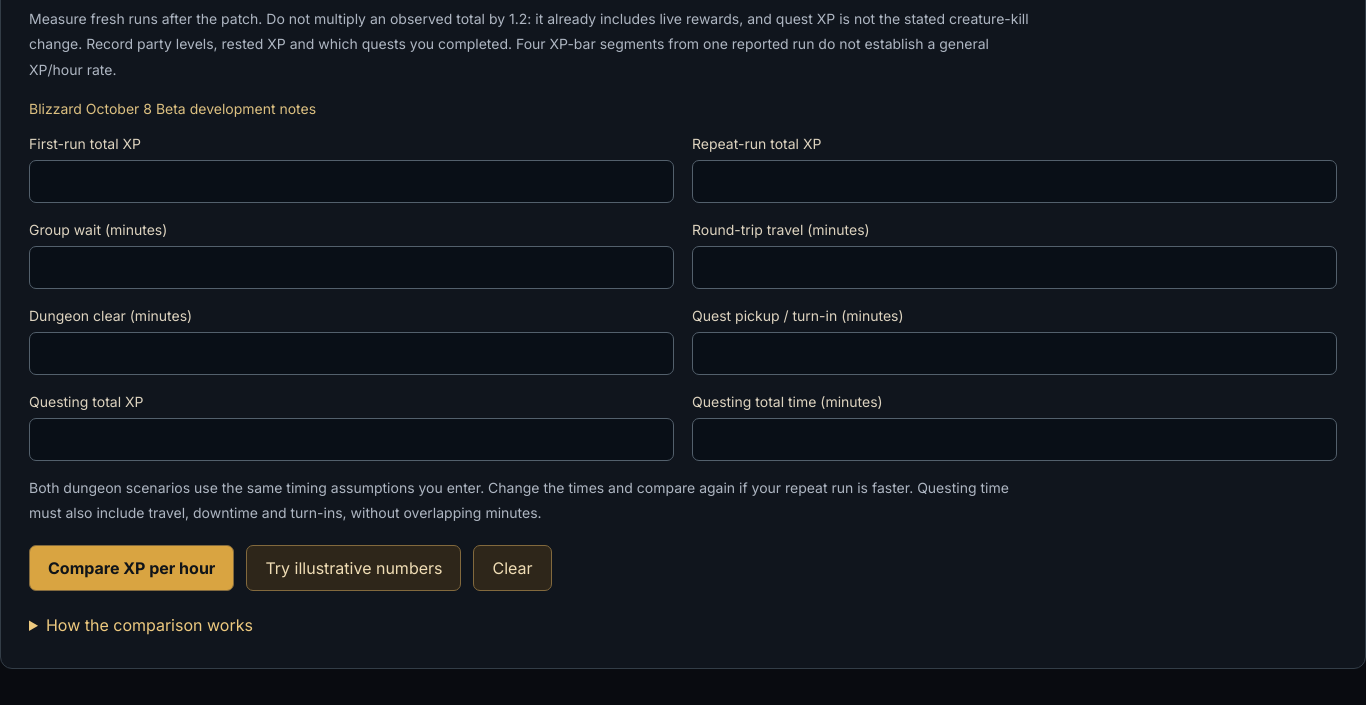
Test: explains the kill-XP patch without multiplying already measured total rewards
The width and height of the screenshot is (1366, 705).
(page scrolled)
Expected: the link "Blizzard October 8 Beta development notes" is shown, [29,100,316,117]
Click the button "Try illustrative numbers" at (354, 568), box [246,545,462,591]
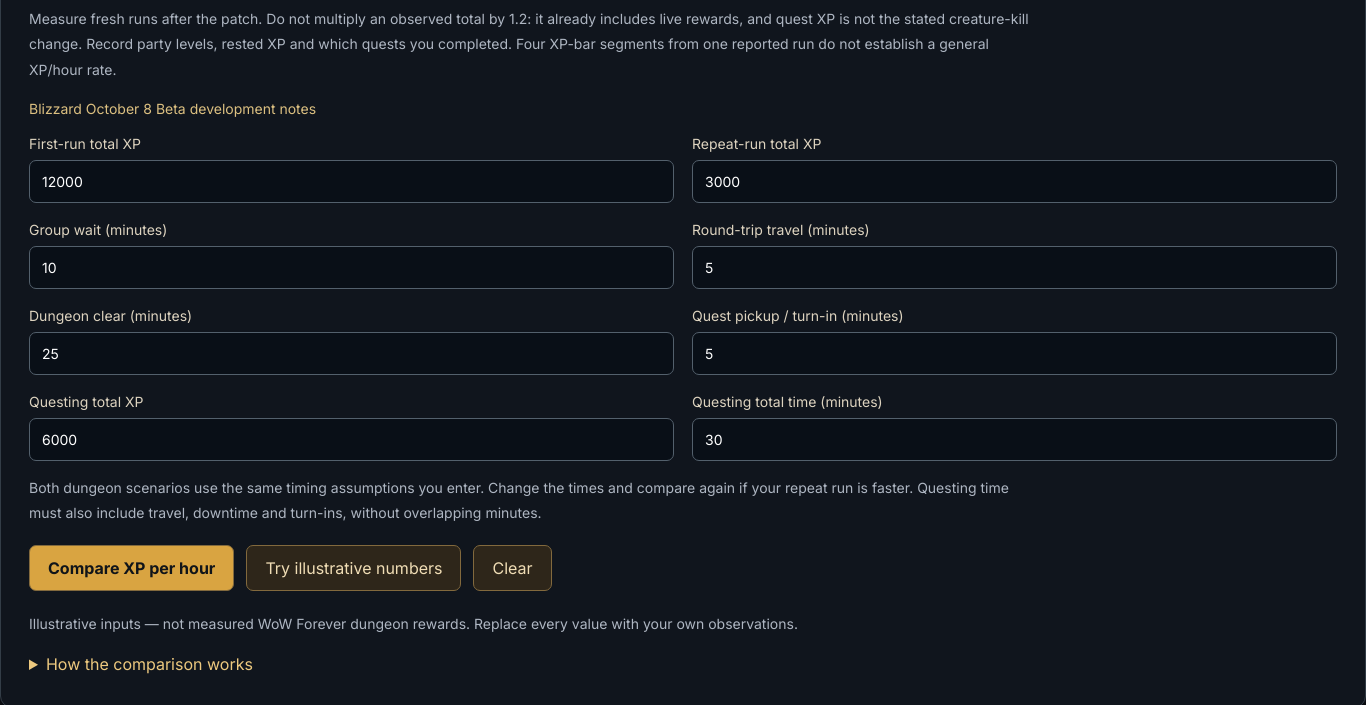
Click the button "Compare XP per hour" at (132, 568), box [29,545,234,591]
(page scrolled)
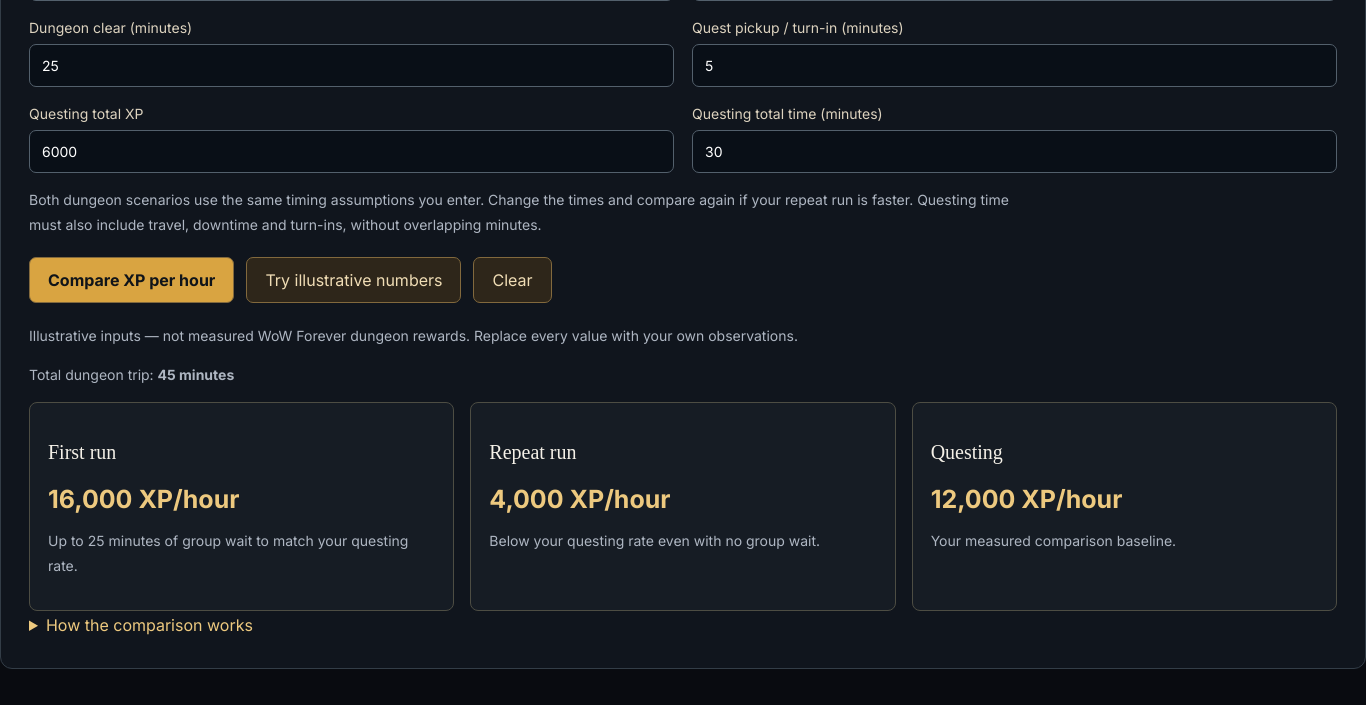
Expected: the text "16,000 XP/hour" is shown, [48,484,239,514]
